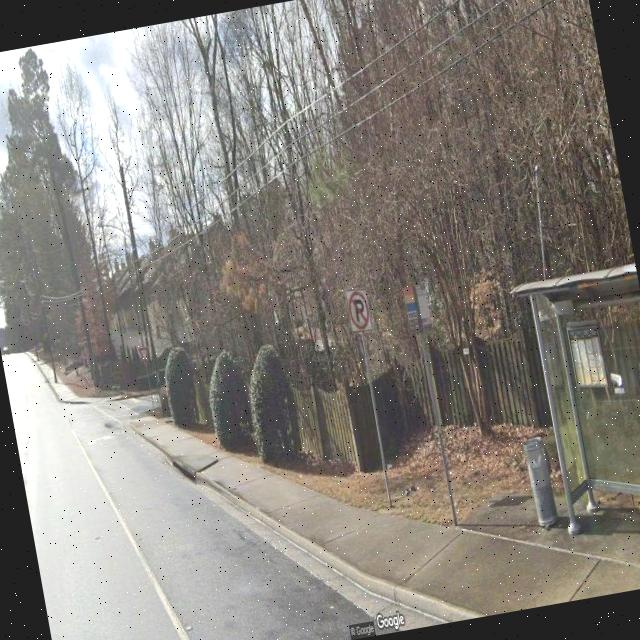shelter: (507, 261, 640, 596)
trash_can: (520, 430, 560, 531)
